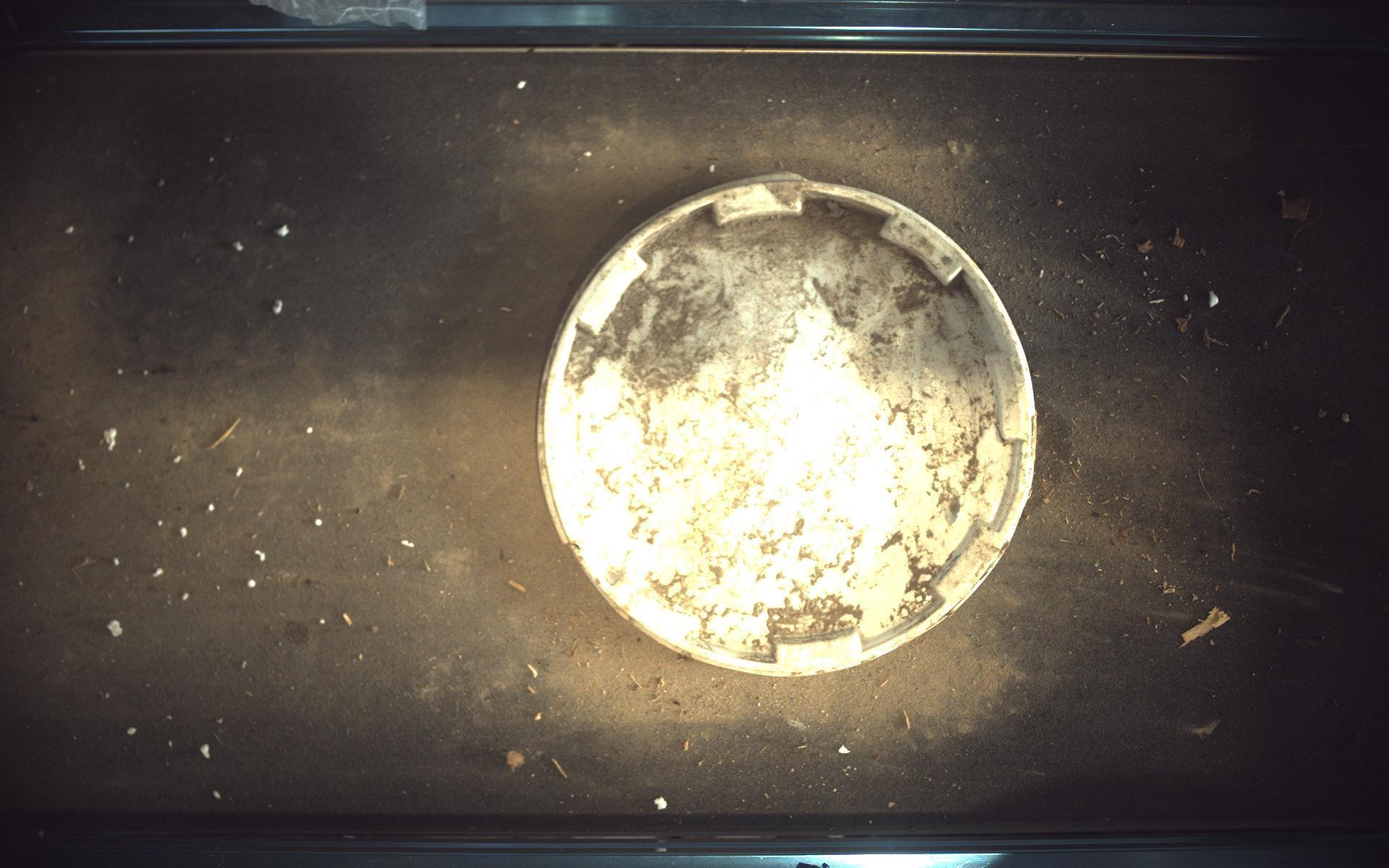plastic: (539, 173, 1038, 677)
